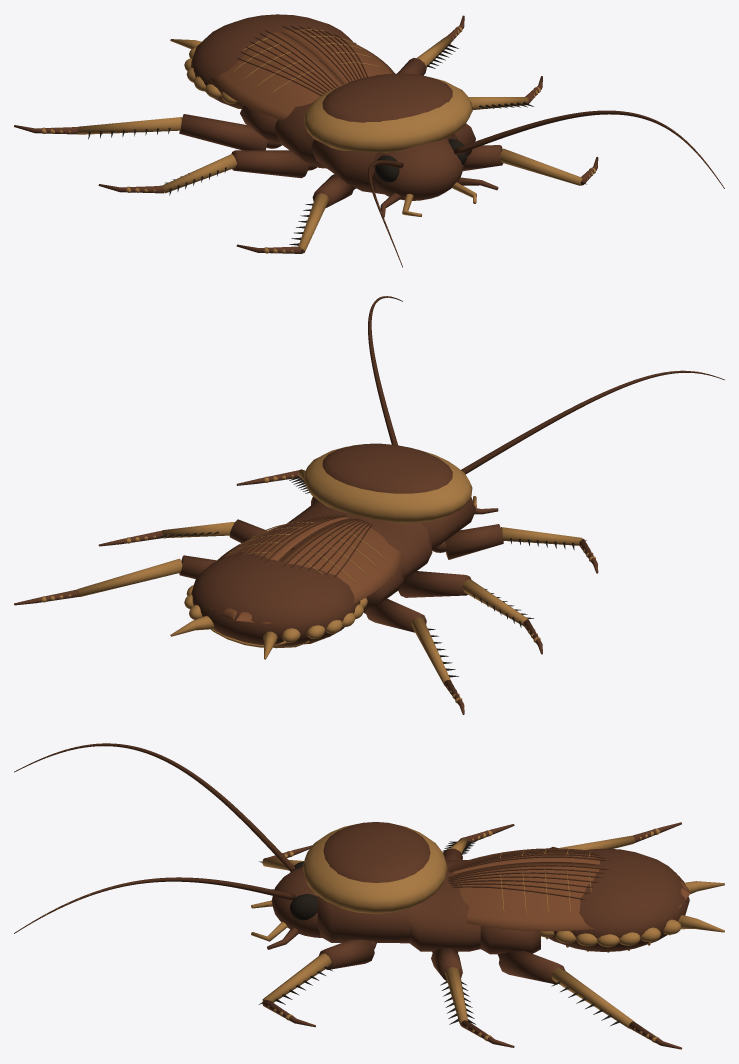
The model's file is Cockroach.fbx.
3 renders of one model, top to bottom at view 1: azimuth 30°, elevation 25°; view 2: azimuth 150°, elevation 25°; view 3: azimuth 270°, elevation 25°, orthographic. The views are drawn at different scales.
Parts seen in each view (by area): view 1: Cockroach_RoachChestnut, Cockroach_RoachAmberEdge, Cockroach_RoachWingBrown, Cockroach_RoachWingVeins, Cockroach_BlattodeaDarkCuticle; view 2: Cockroach_RoachChestnut, Cockroach_RoachAmberEdge, Cockroach_RoachWingBrown, Cockroach_RoachWingVeins, Cockroach_BlattodeaDarkCuticle; view 3: Cockroach_RoachChestnut, Cockroach_RoachAmberEdge, Cockroach_RoachWingBrown, Cockroach_RoachWingVeins, Cockroach_BlattodeaDarkCuticle.
Boxes of the visible parts, x1,y1,x2,y2 form: Cockroach_RoachChestnut: (14,14,598,253); Cockroach_RoachAmberEdge: (41,26,705,253); Cockroach_RoachWingBrown: (209,29,394,120); Cockroach_RoachWingVeins: (236,25,724,267); Cockroach_BlattodeaDarkCuticle: (88,44,586,253); Cockroach_RoachChestnut: (14,443,598,714); Cockroach_RoachAmberEdge: (41,296,705,703); Cockroach_RoachWingBrown: (208,517,403,624); Cockroach_RoachWingVeins: (236,296,724,577); Cockroach_BlattodeaDarkCuticle: (157,476,586,677); Cockroach_RoachChestnut: (262,822,689,1049); Cockroach_RoachAmberEdge: (45,743,724,1042); Cockroach_RoachWingBrown: (453,851,690,931); Cockroach_RoachWingVeins: (14,743,610,933); Cockroach_BlattodeaDarkCuticle: (259,841,620,1025).
Bounding box in the file's own units: 0.7522 × 0.203 × 1.
